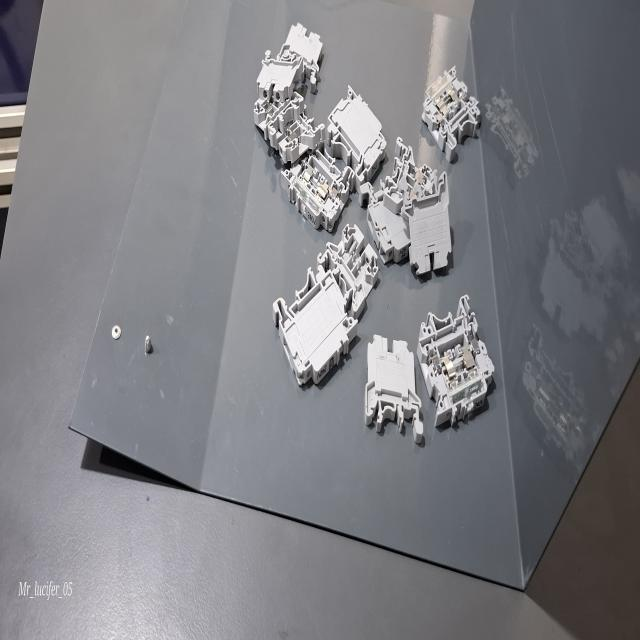Inverted: (365, 305, 427, 458), (396, 164, 457, 282), (254, 33, 304, 108)
Reject: (316, 217, 382, 315)
